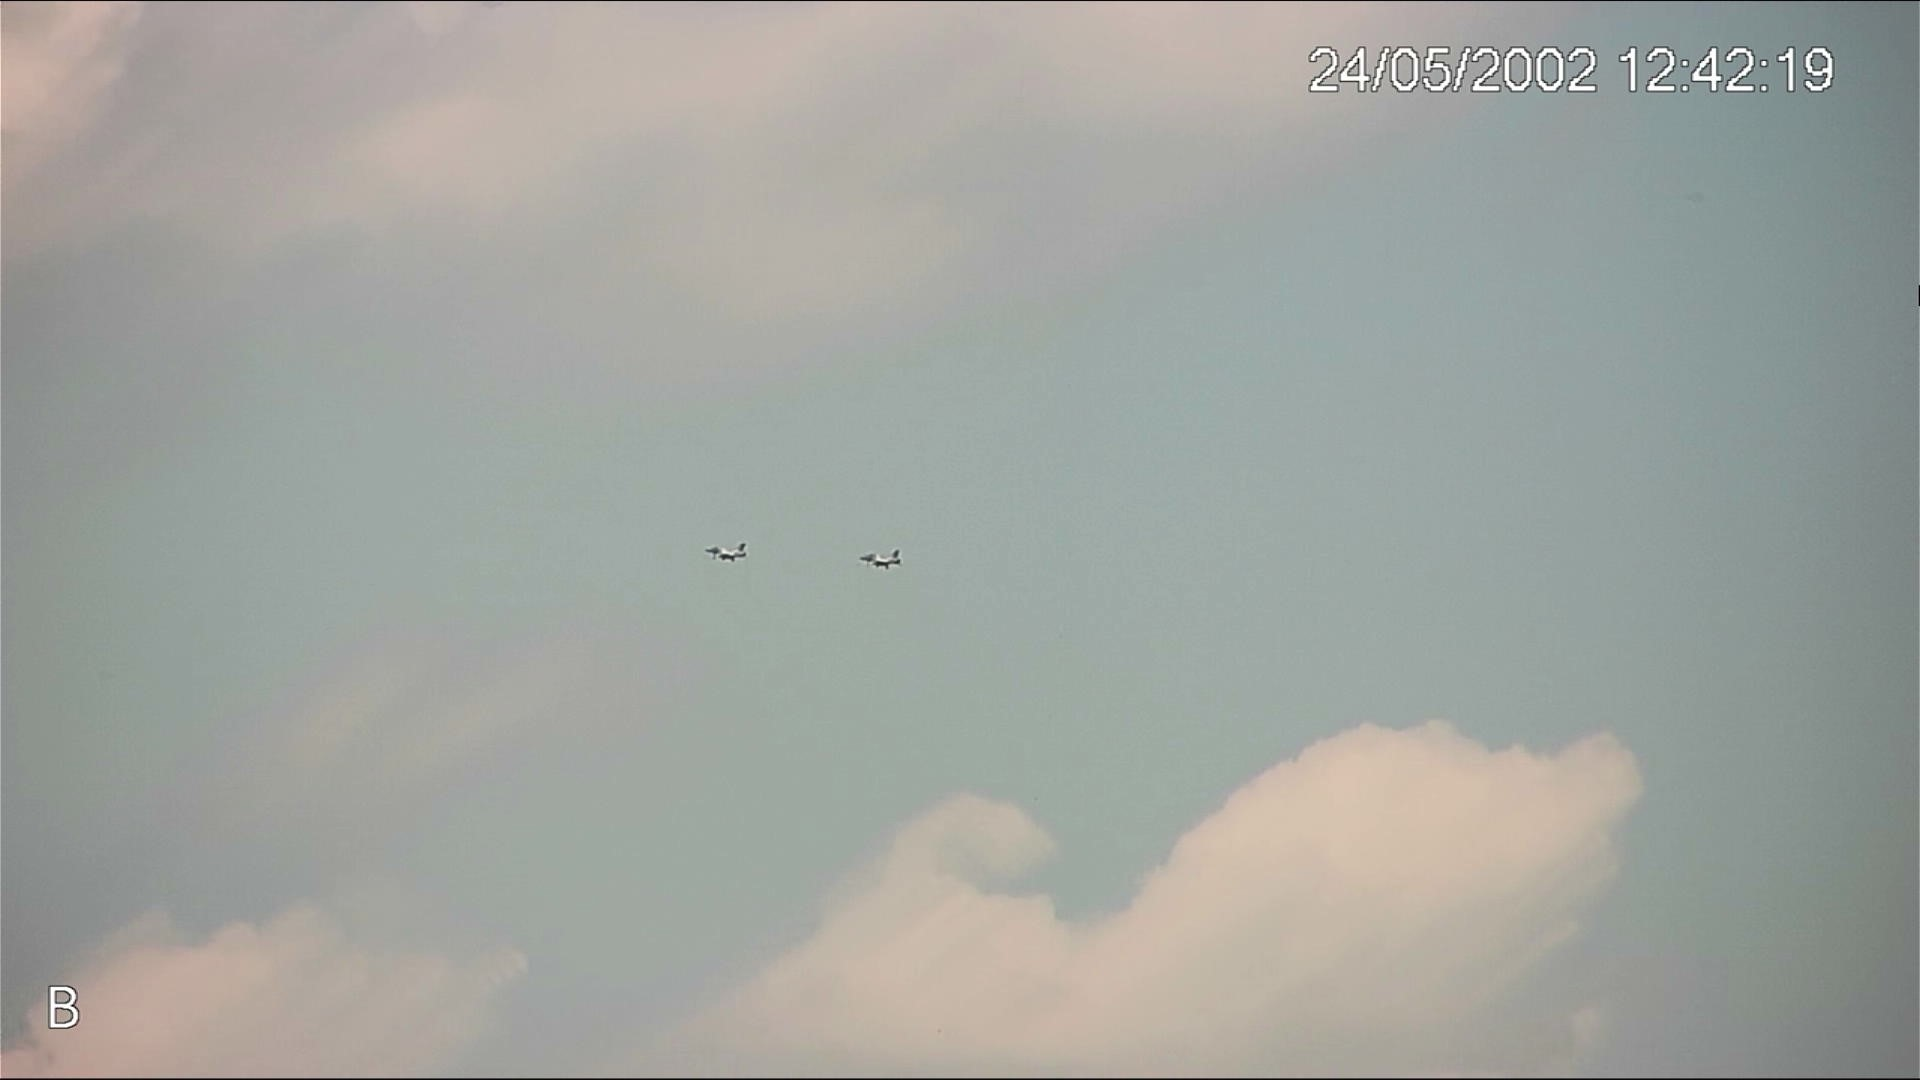SU_30: (703, 541, 748, 563), (858, 547, 902, 568)
